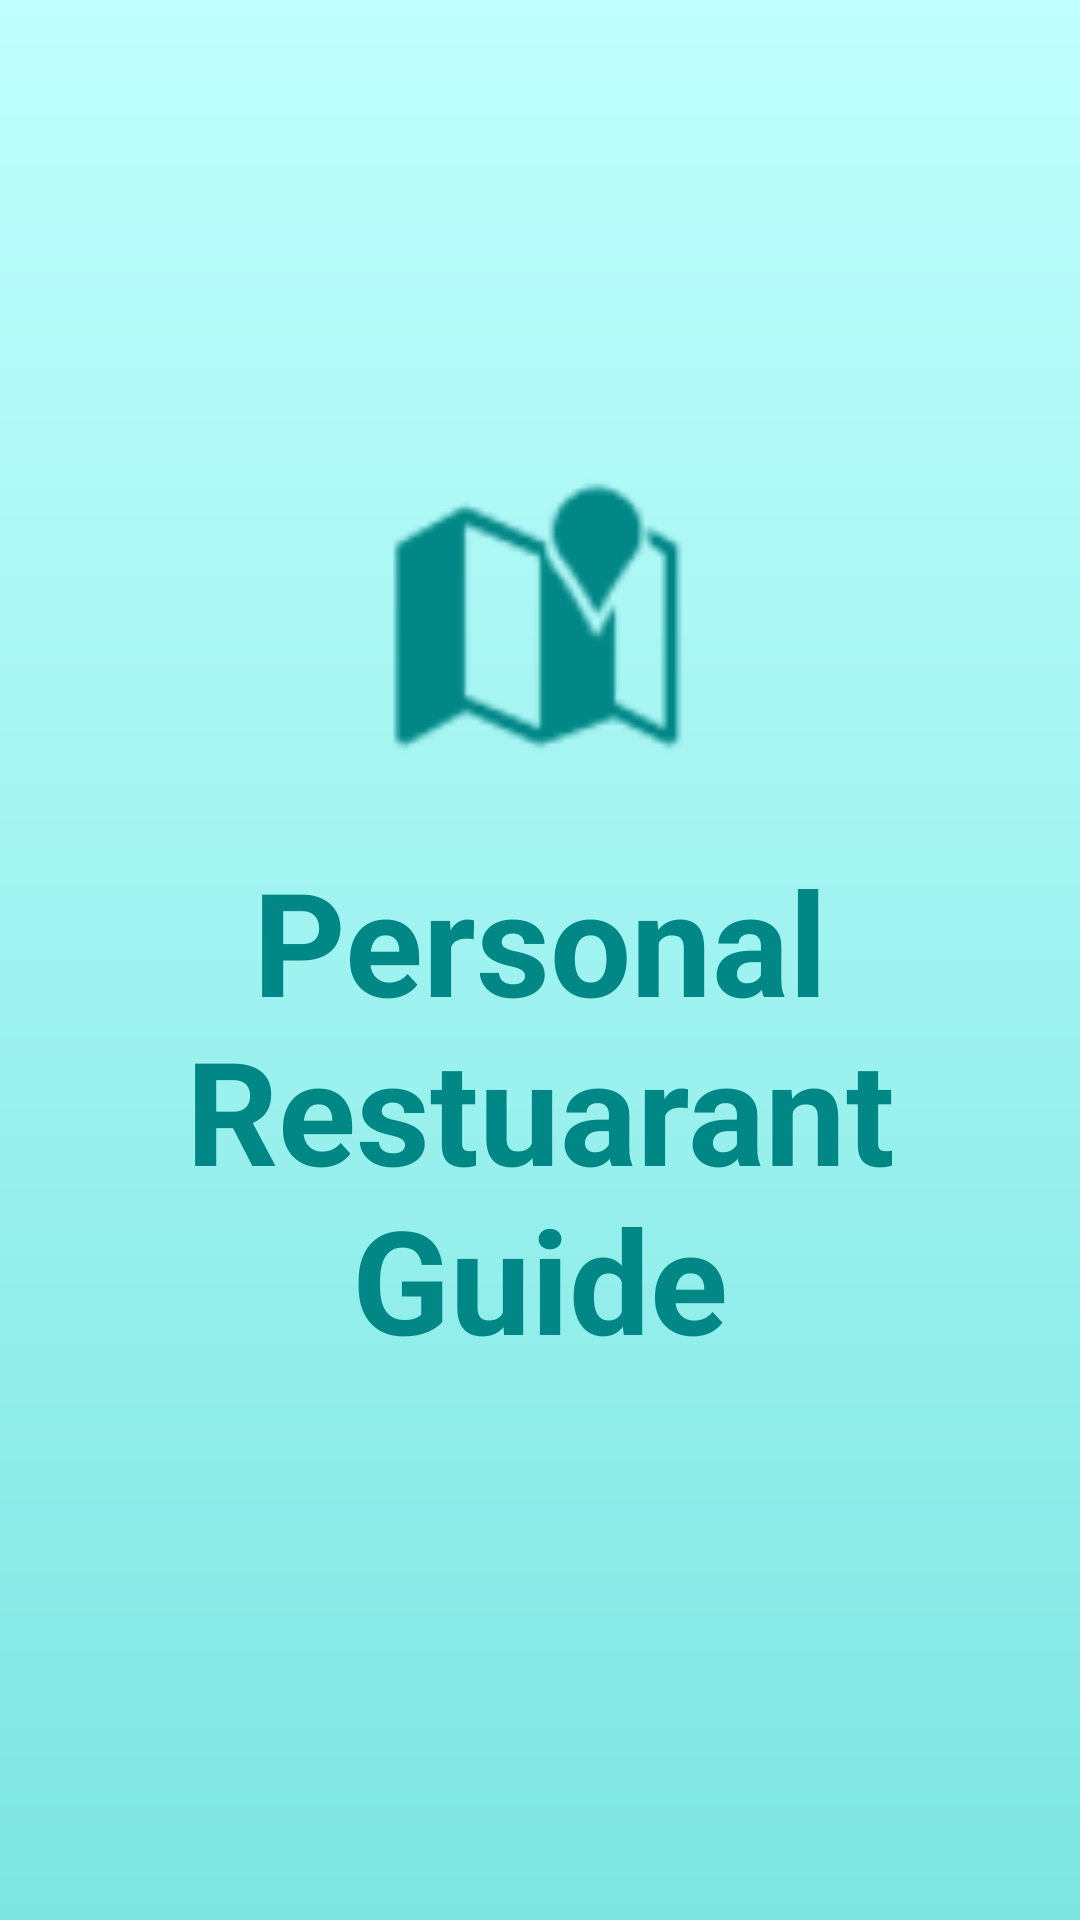

Where icons sit on this 1080*1920 app screen, as (x1, y1, x2, y2):
map: (393, 484, 682, 749)
